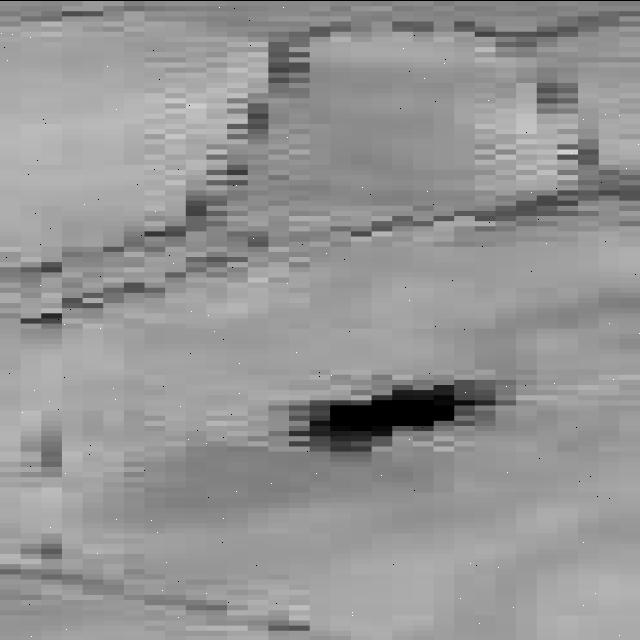good_void: (255, 367, 532, 460)
